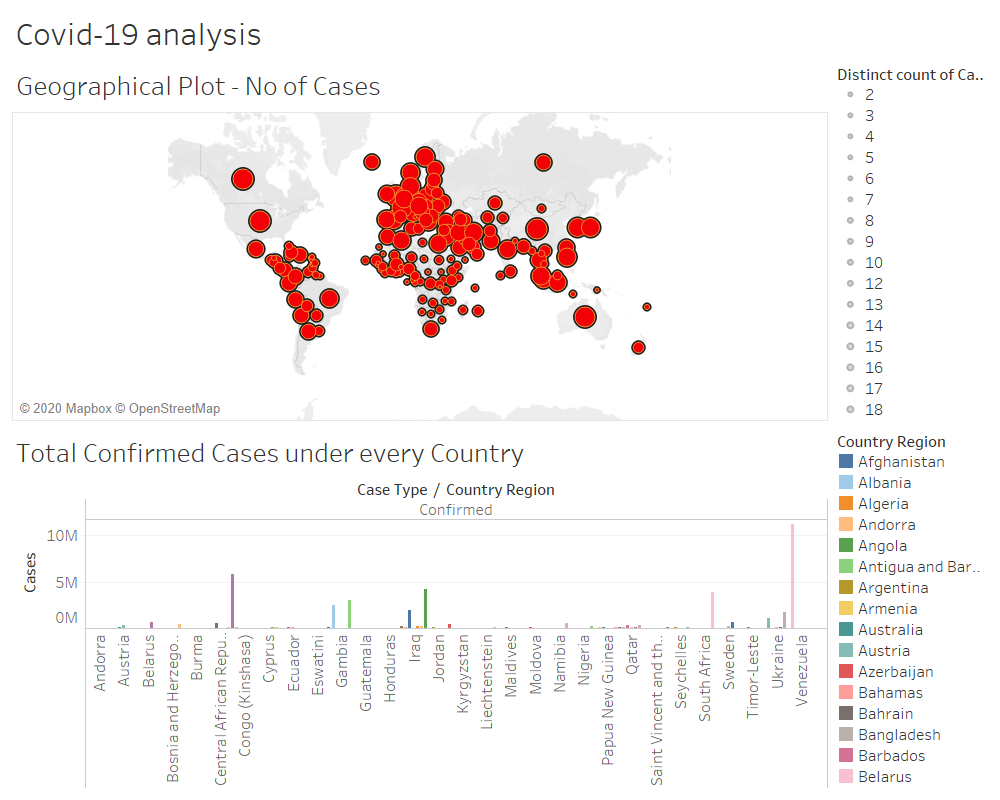

What the dashboard file says about the page in this screenshot:
{"tool":"tableau","page":{"name":"Dashboard/Covid -19 analysis 1","canvas":[1000,800],"ordinal":0},"visuals":[{"type":"title","box":[8,8,984,50]},{"type":"worksheet","title":"Geographical Plot - No of Cases","mark":"Automatic","box":[8,58,824,367]},{"type":"legend","title":"Geographical Plot - No of Cases","param":"[federated.0fkiguc1lclf2s1365o251hr6edx (copy)].[ctd:cases:ok]","box":[832,58,160,367]},{"type":"worksheet","title":"Total Confirmed Cases under every Country","mark":"Automatic","rows":["cases"],"cols":["case_type","country_region"],"box":[8,425,824,367]},{"type":"legend","title":"Total Confirmed Cases under every Country","param":"[federated.0fkiguc1lclf2s1365o251hr6edx (copy)].[none:country_region:nk]","box":[832,425,160,367]}]}

Visuals, with their boxes in screenshot pixels (x1, y1, x2, y2), scaled from the page's 1000x800 canvas onto the 1000x800 screenshot:
title: 8, 8, 992, 58
"Geographical Plot - No of Cases" worksheet: 8, 58, 832, 425
"Geographical Plot - No of Cases" legend: 832, 58, 992, 425
"Total Confirmed Cases under every Country" worksheet: 8, 425, 832, 792
"Total Confirmed Cases under every Country" legend: 832, 425, 992, 792
